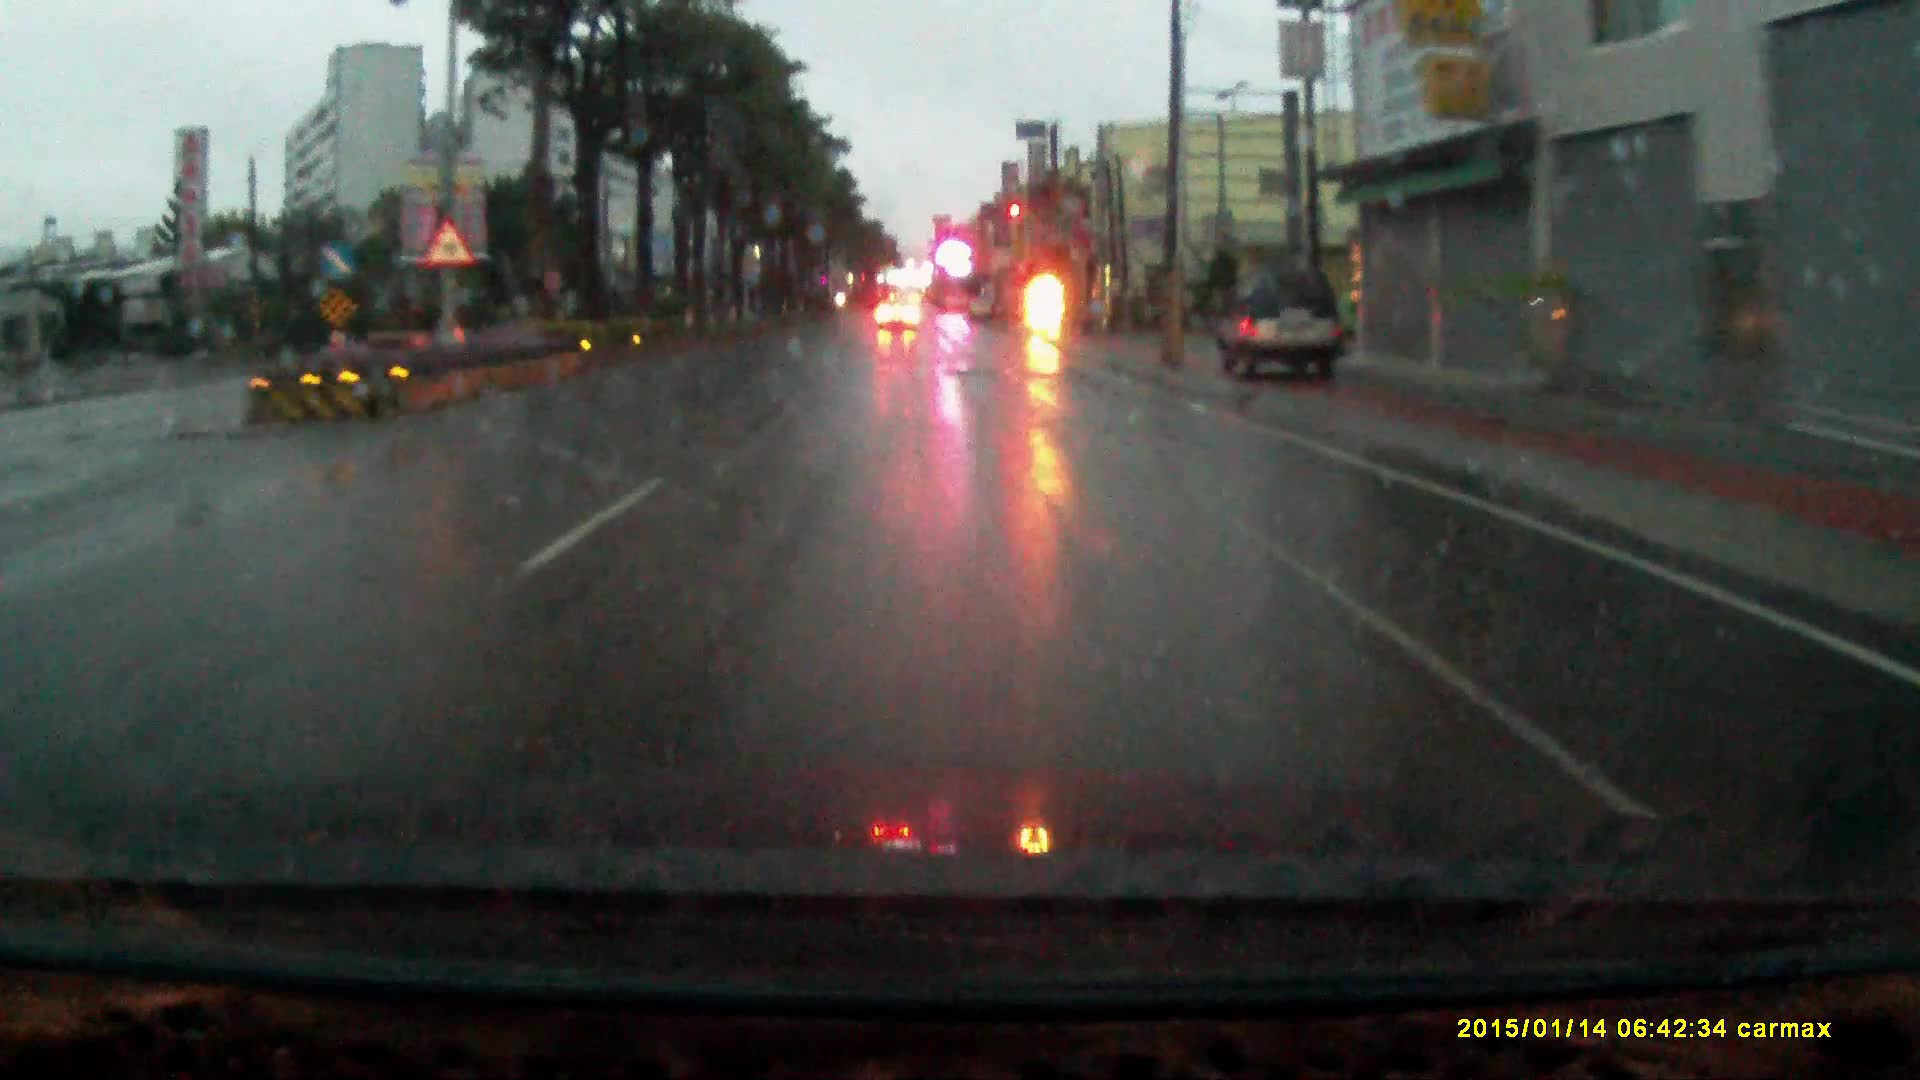vehicle: (1213, 258, 1350, 380), (872, 285, 919, 320)
